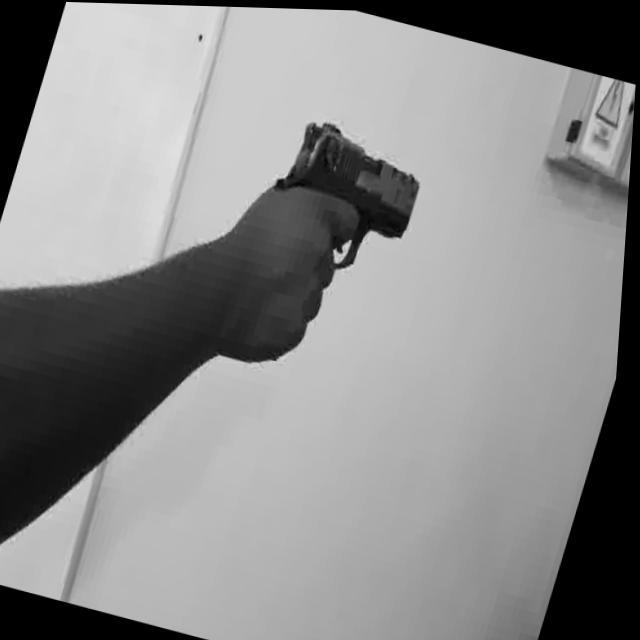weapon: (258, 108, 436, 282)
